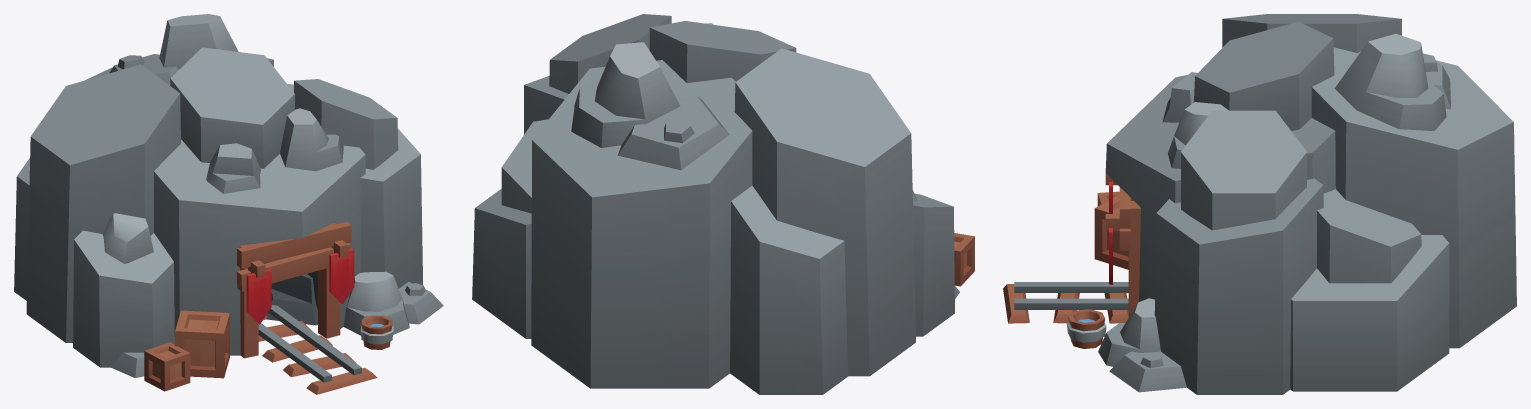
The model's file is k-mine-kaykit.glb.
3 renders of one model, left to right at view 1: azimuth 30°, elevation 25°; view 2: azimuth 150°, elevation 25°; view 3: azimuth 270°, elevation 25°, orthographic. The views are drawn at different scales.
Parts seen in each view (by area): view 1: building_mine_red; view 2: building_mine_red; view 3: building_mine_red.
Boxes of the visible parts, left/top/right/bottom form: building_mine_red: left=14, top=14, right=443, bottom=394; building_mine_red: left=472, top=14, right=974, bottom=394; building_mine_red: left=1003, top=14, right=1516, bottom=394.
Bounding box in the file's own units: 1.61 × 1.14 × 1.92.
Materials: 1 (1 with a texture image).
